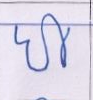i_matra: (46, 12, 72, 67)
